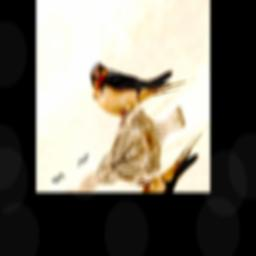Swallow: (84, 10, 189, 147)
